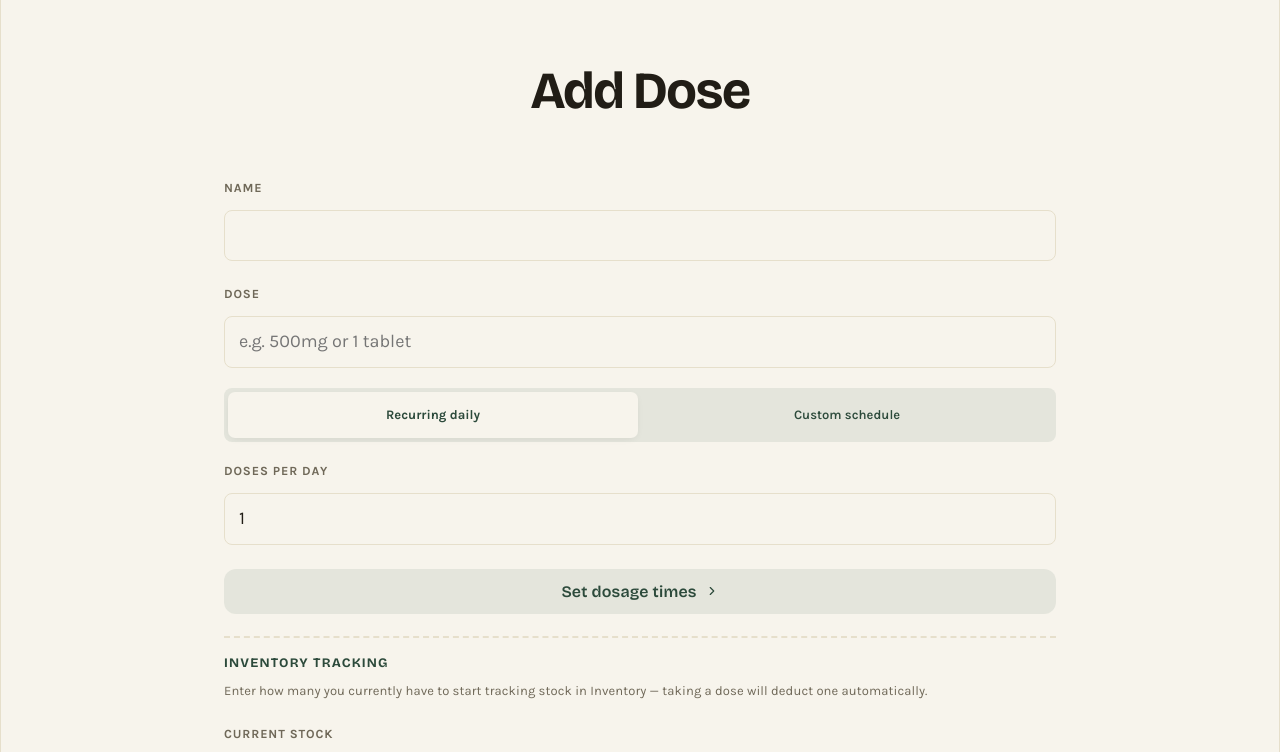
Test: DoseForm — custom schedule entries › adds and removes a schedule entry
Click the button "Custom schedule" at (847, 415), box [642,392,1052,438]
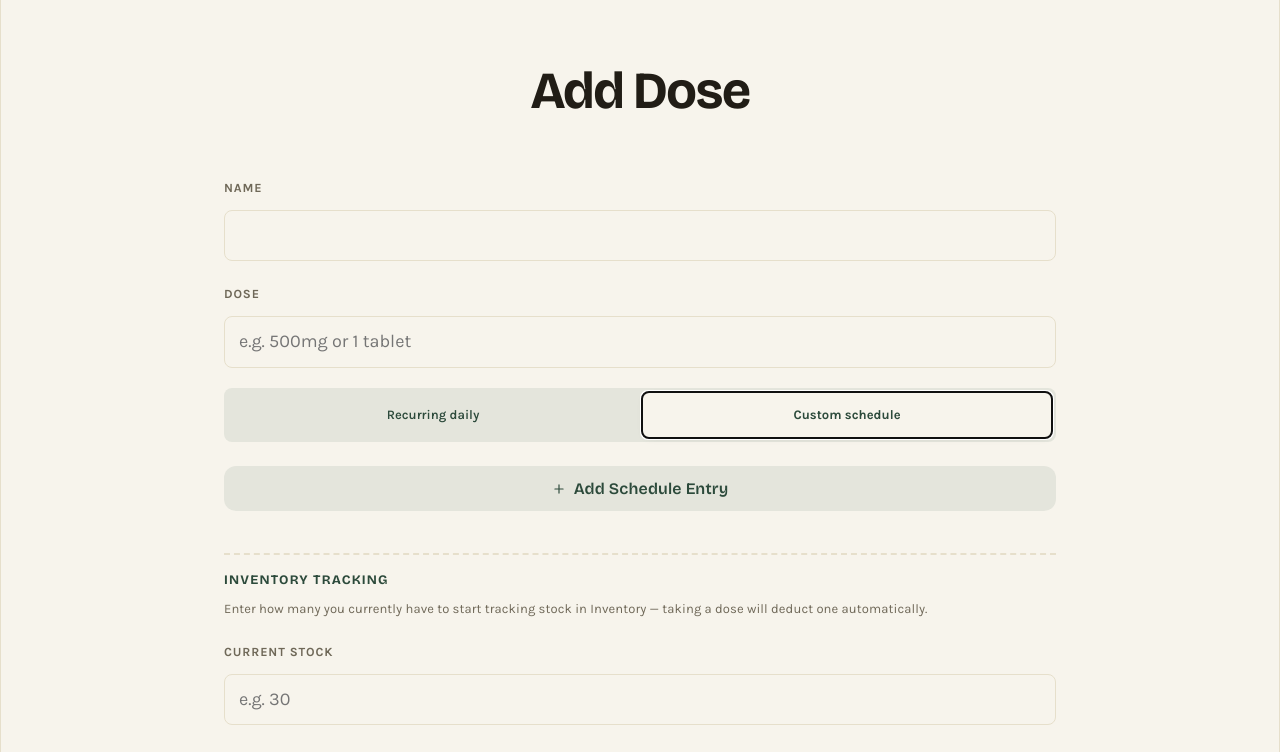
Click the button "Add Schedule Entry" at (640, 489), box [224,466,1056,511]
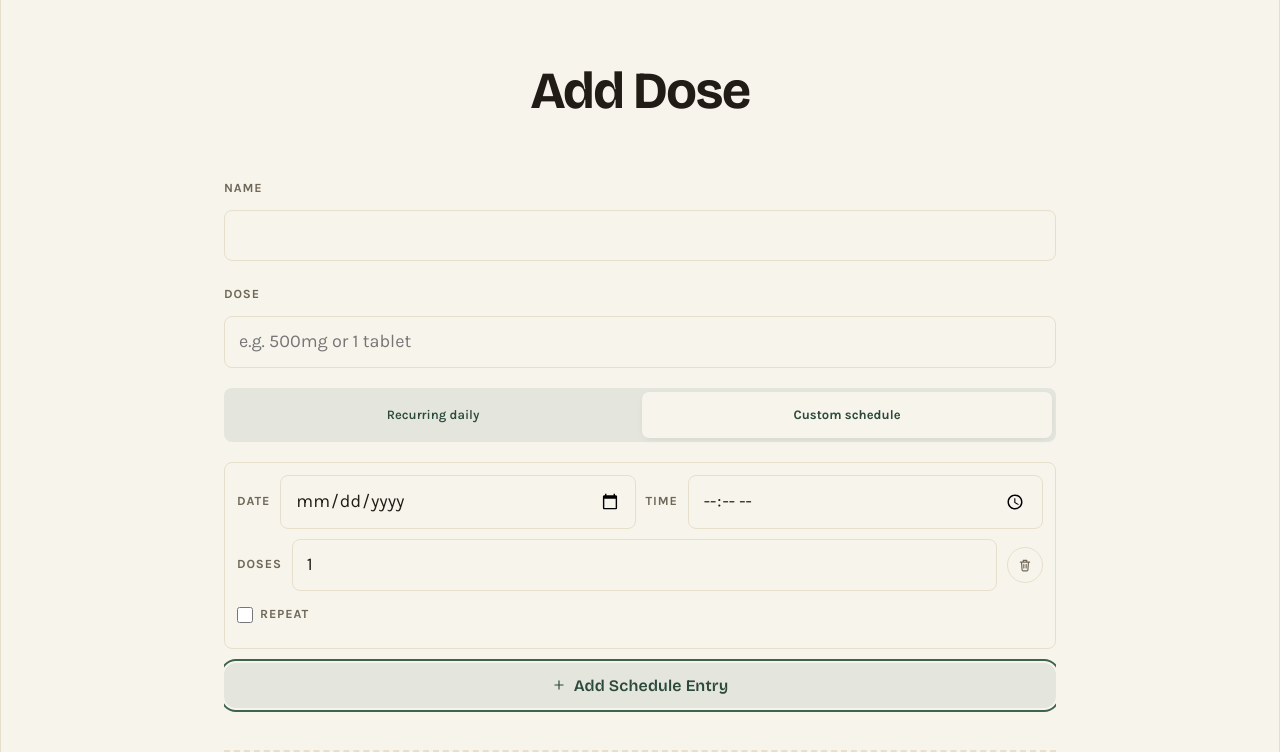
expect the date field labelled "Date" is shown: met, box [280,475,636,529]
expect the time field labelled "Time" is shown: met, box [688,475,1043,529]
expect the number field labelled "Doses" is shown: met, box [292,539,997,591]
Click the button named "remove schedule entry 1" at (1025, 565), box [1007,547,1043,583]
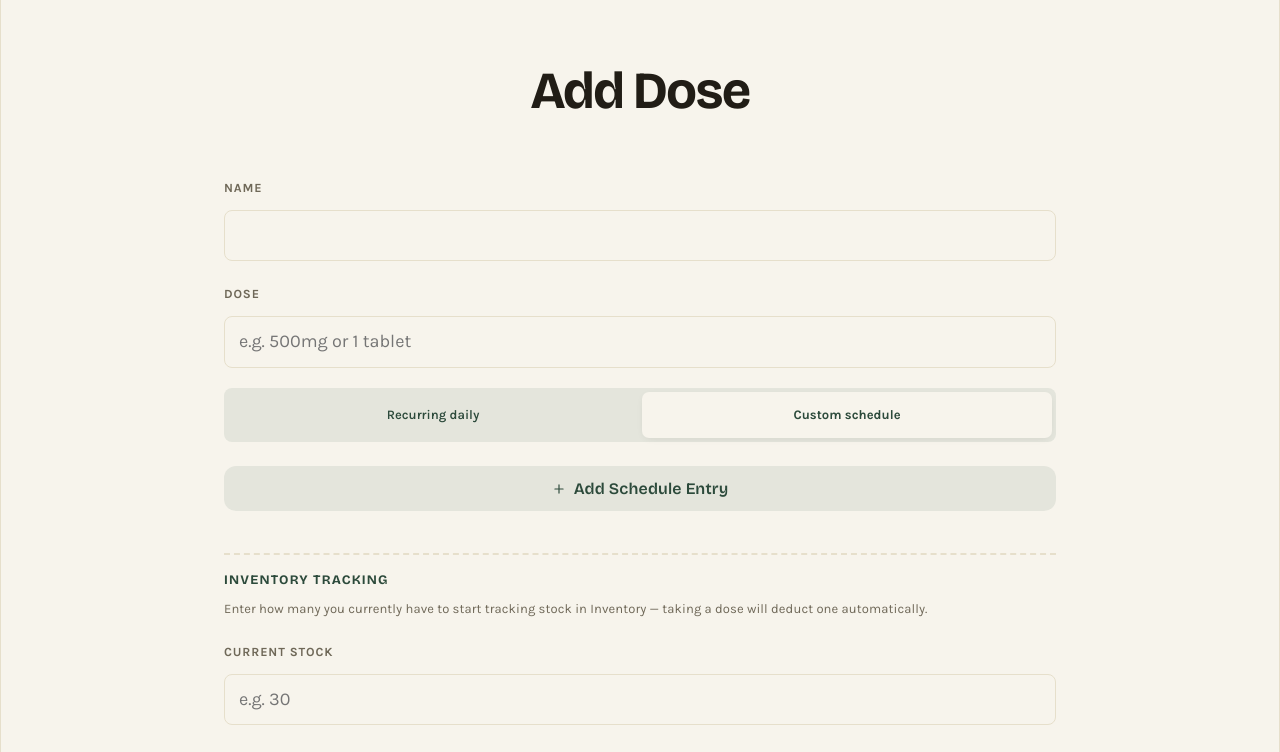
expect the label labelled "Date" is gone: met
